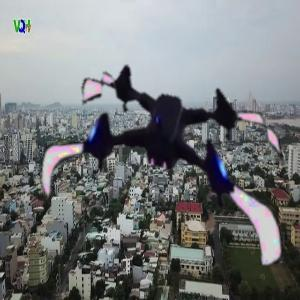drone: (34, 30, 288, 284)
